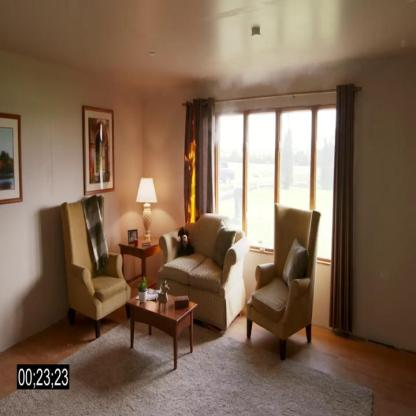fire: (184, 135, 199, 222)
